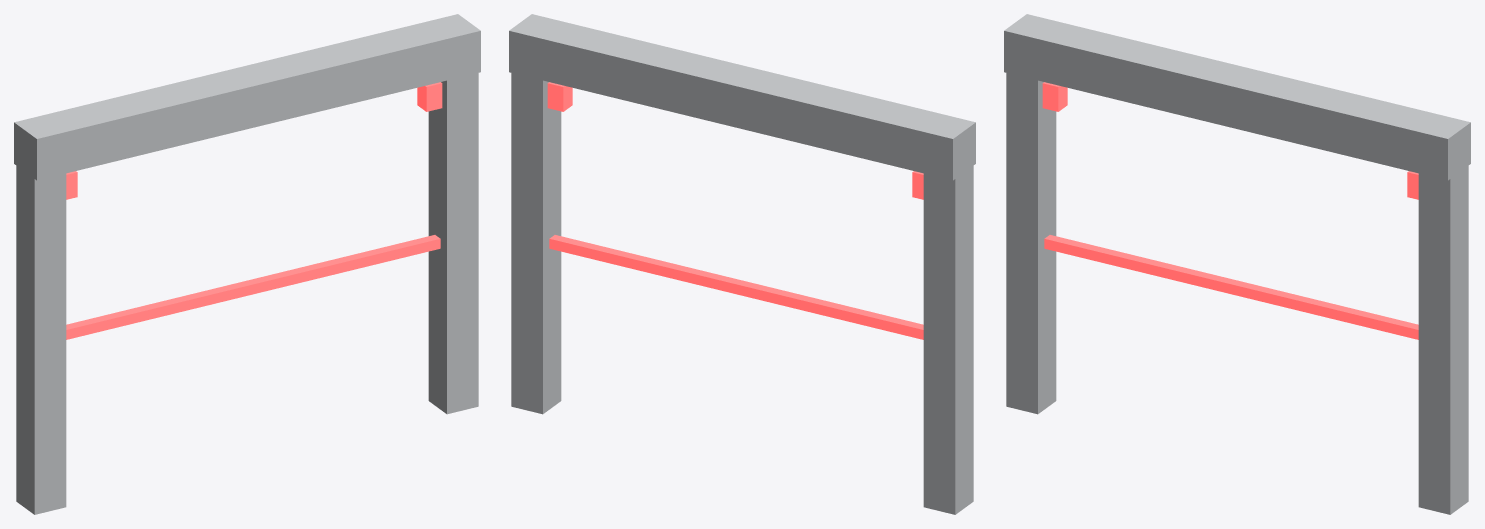
Rendered from scanner.glb.
The picture shows the model from 3 angles, left to right: view 1: azimuth 30°, elevation 25°; view 2: azimuth 150°, elevation 25°; view 3: azimuth 330°, elevation 25°; orthographic projection.
Visible parts, largest first — view 1: Scanner_Frame, Laser_Bar, Scanner_Lenses; view 2: Scanner_Frame, Laser_Bar, Scanner_Lenses; view 3: Scanner_Frame, Laser_Bar, Scanner_Lenses.
Boxes of the visible parts, x1,y1,x2,y2 form: Scanner_Frame: (14, 14, 480, 514); Laser_Bar: (66, 235, 440, 339); Scanner_Lenses: (66, 82, 442, 199); Scanner_Frame: (509, 14, 975, 514); Laser_Bar: (549, 235, 923, 339); Scanner_Lenses: (547, 82, 923, 199); Scanner_Frame: (1004, 14, 1470, 514); Laser_Bar: (1044, 235, 1418, 339); Scanner_Lenses: (1042, 82, 1418, 199).
Bounding box in the file's own units: 5.6 × 4.55 × 0.5.
